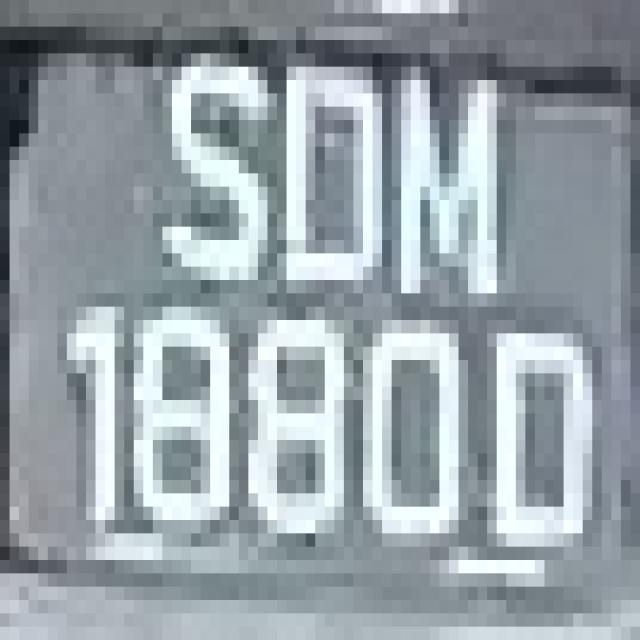0: (334, 294, 487, 574)
1: (76, 226, 144, 586)
8: (220, 267, 353, 573), (114, 280, 238, 520)
D: (487, 293, 602, 600), (268, 27, 382, 333)
M: (382, 54, 506, 334)
S: (143, 53, 277, 307)
